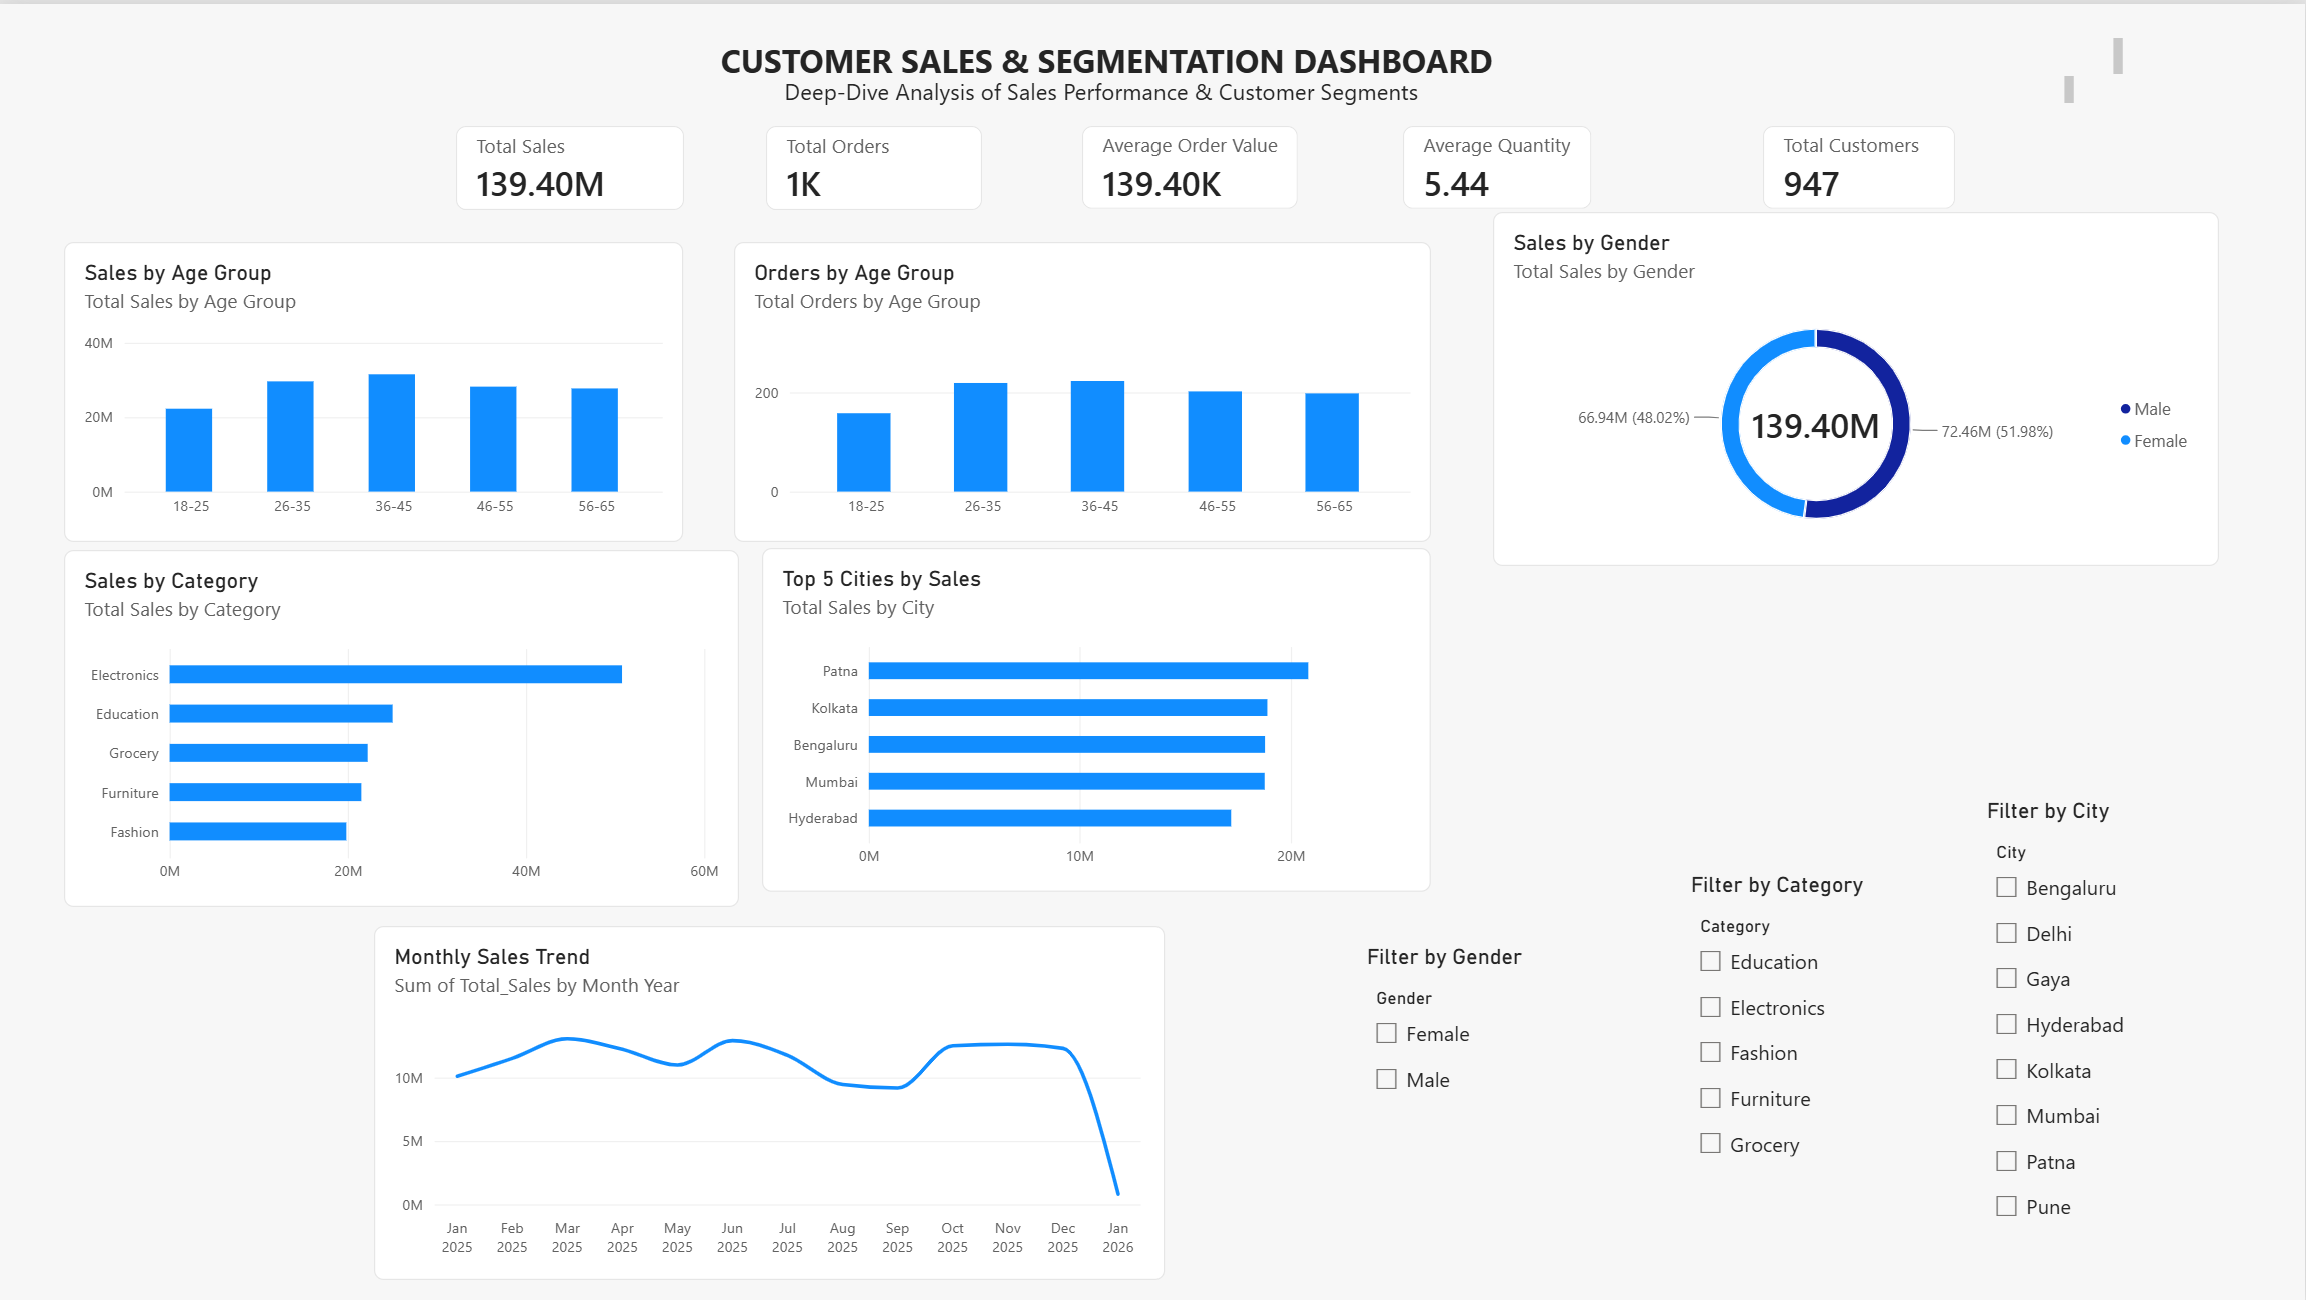

What the dashboard file says about the page in this screenshot:
{"tool":"powerbi","page":{"name":"Page 1","canvas":[1920,1080],"ordinal":0},"visuals":[{"type":"textbox","box":[82.5,27.5,1685,32.5],"z":0},{"type":"textbox","box":[115.5,60,1612.7,23.6],"z":1000},{"type":"cardVisual","fields":{"Data":["Sheet1.Total Sales"]},"box":[380,102,190,70],"z":2000},{"type":"cardVisual","fields":{"Data":["Sheet1.Average Order Value"]},"box":[902,102,179,69],"z":3000},{"type":"cardVisual","fields":{"Data":["Sheet1.Average Quantity"]},"box":[1168,102,157.7,69.2],"z":4000},{"type":"cardVisual","fields":{"Data":["Sheet1.Total Customers"]},"box":[1468,102,160,69],"z":5000},{"type":"cardVisual","fields":{"Data":["Sheet1.Total Orders"]},"box":[638,102,180,70],"z":6000},{"type":"clusteredColumnChart","title":"Sales by Age Group","fields":{"Category":["Sheet1.Age Group"],"Y":["Sheet1.Total Sales"]},"box":[53.3,198.3,516,250],"z":7000},{"type":"clusteredColumnChart","title":"Orders by Age Group","fields":{"Category":["Sheet1.Age Group"],"Y":["Sheet1.Total Orders"]},"box":[611.7,198.3,580,250],"z":8000},{"type":"donutChart","title":"Sales by Gender","fields":{"Category":["Sheet1.Gender"],"Y":["Sheet1.Total Sales"]},"box":[1243.3,173.3,605,295],"z":9000},{"type":"clusteredBarChart","title":"Sales by Category","fields":{"Category":["Sheet1.Category"],"Y":["Sheet1.Total Sales"]},"box":[53.3,455,562.5,297.5],"z":10000},{"type":"clusteredBarChart","title":"Top 5 Cities by Sales","fields":{"Category":["Sheet1.City"],"Y":["Sheet1.Total Sales"]},"box":[635,453.3,556.7,286.7],"z":11000},{"type":"lineChart","title":"Monthly Sales Trend","fields":{"Y":["Sum(Sheet1.Total_Sales)"],"Category":["Sheet1.Month Year"]},"box":[311.7,768.3,658.3,295],"z":12000},{"type":"slicer","title":"Filter by Gender","fields":{"Values":["Sheet1.Gender"]},"box":[1138.3,783.3,215,203.3],"z":13000},{"type":"slicer","title":"Filter by Category","fields":{"Values":["Sheet1.Category"]},"box":[1408.3,723.3,207,277],"z":14000},{"type":"slicer","title":"Filter by City","fields":{"Values":["Sheet1.City"]},"box":[1655,661.7,165,366.7],"z":15000}]}

Visuals, with their boxes in screenshot pixels (x1, y1, x2, y2), scaled from the page's 1920x1080 canvas onto the 2306x1300 screenshot:
textbox: x1=99 y1=33 x2=2123 y2=72
textbox: x1=139 y1=72 x2=2076 y2=101
cardVisual - Sheet1.Total Sales: x1=456 y1=123 x2=685 y2=207
cardVisual - Sheet1.Average Order Value: x1=1083 y1=123 x2=1298 y2=206
cardVisual - Sheet1.Average Quantity: x1=1403 y1=123 x2=1592 y2=206
cardVisual - Sheet1.Total Customers: x1=1763 y1=123 x2=1955 y2=206
cardVisual - Sheet1.Total Orders: x1=766 y1=123 x2=982 y2=207
"Sales by Age Group" clusteredColumnChart: x1=64 y1=239 x2=684 y2=540
"Orders by Age Group" clusteredColumnChart: x1=735 y1=239 x2=1431 y2=540
"Sales by Gender" donutChart: x1=1493 y1=209 x2=2220 y2=564
"Sales by Category" clusteredBarChart: x1=64 y1=548 x2=740 y2=906
"Top 5 Cities by Sales" clusteredBarChart: x1=763 y1=546 x2=1431 y2=891
"Monthly Sales Trend" lineChart: x1=374 y1=925 x2=1165 y2=1280
"Filter by Gender" slicer: x1=1367 y1=943 x2=1625 y2=1188
"Filter by Category" slicer: x1=1691 y1=871 x2=1940 y2=1204
"Filter by City" slicer: x1=1988 y1=796 x2=2186 y2=1238
